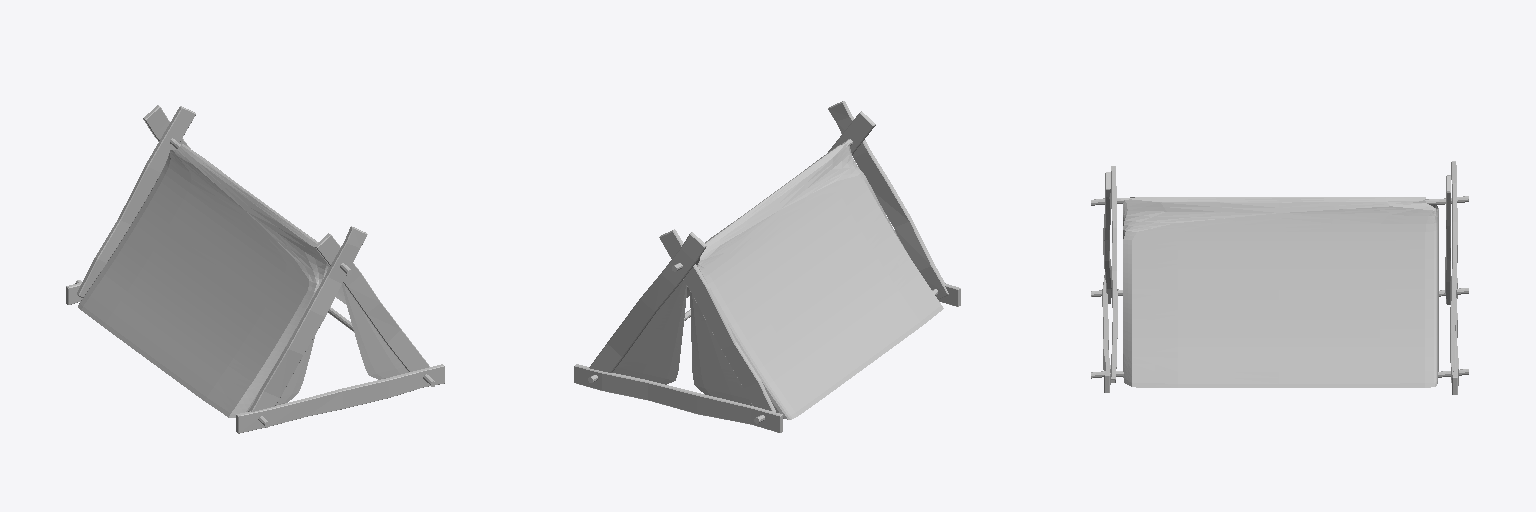
File: midpoly_viking_tent_005.obj
3 views of the same model, side by side, from view 1: azimuth 30°, elevation 25°; view 2: azimuth 150°, elevation 25°; view 3: azimuth 270°, elevation 25° (orthographic).
Parts seen in each view (by area): view 1: Plane.005, Cube.020, Cube.018, Cube.019, Cube.021, Cube.022; view 2: Plane.005, Cube.023, Cube.020, Cube.022, Cube.019, Cube.021; view 3: Plane.005, Cube.022, Cube.021, Cube.020, Cube.019, Cube.018.
Part boxes in pixels (x1,y1,x2,y2): Plane.005: (78,144,408,417); Cube.020: (249,226,367,411); Cube.018: (236,364,444,433); Cube.019: (77,106,195,297); Cube.021: (315,233,429,371); Cube.022: (143,105,190,149); Plane.005: (612,143,943,419); Cube.023: (574,364,782,432); Cube.020: (828,101,948,299); Cube.022: (589,232,706,372); Cube.019: (659,229,775,411); Cube.021: (828,111,875,154); Plane.005: (1123,197,1438,387); Cube.022: (1450,161,1457,382); Cube.021: (1111,166,1117,382); Cube.020: (1103,172,1111,303); Cube.019: (1445,175,1450,304); Cube.018: (1102,275,1110,392).
Size of the model in its own units: 5.74 by 4.64 by 8.92.